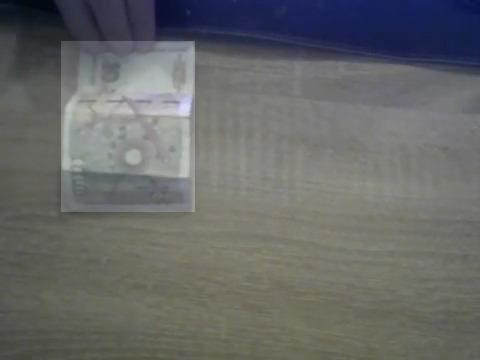10leva: (61, 41, 195, 212)
